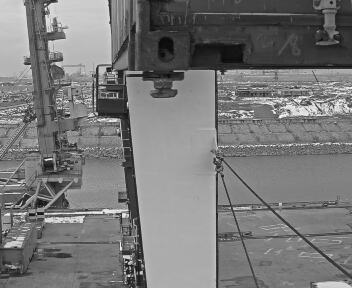twist_lock_1: (136, 65, 188, 106)
